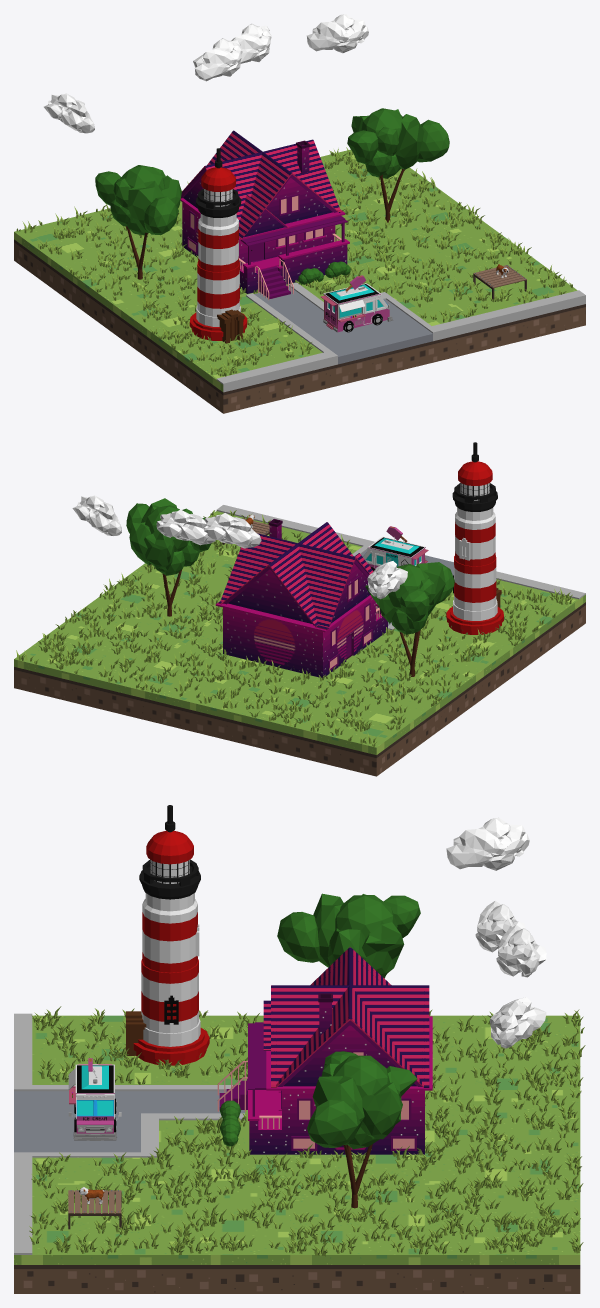
3 renders of one model, top to bottom at view 1: azimuth 30°, elevation 25°; view 2: azimuth 150°, elevation 25°; view 3: azimuth 270°, elevation 25°, orthographic. The views are drawn at different scales.
Visible parts, largest first — view 1: Cube.006, Circle.012_Grass_0.192, Cube.156, OBJRANDOM_LIGHTHOUSE, Cube.007, tree, tree.001, VEHICLES_ICE_CREAM_TRUCK, Cube.009; view 2: Cube.006, Cube.156, Circle.012_Grass_0.192, OBJRANDOM_LIGHTHOUSE, Cube.007, tree.001, tree, VEHICLES_ICE_CREAM_TRUCK; view 3: Cube.006, Circle.012_Grass_0.192, Cube.156, OBJRANDOM_LIGHTHOUSE, tree, Cube.007, tree.001, VEHICLES_ICE_CREAM_TRUCK, Cube.009.
Boxes of the visible parts, x1,y1,x2,y2 form: Cube.006: [14, 149, 585, 413]; Circle.012_Grass_0.192: [16, 147, 573, 376]; Cube.156: [180, 130, 349, 300]; OBJRANDOM_LIGHTHOUSE: [189, 148, 247, 343]; Cube.007: [44, 14, 368, 133]; tree: [347, 108, 449, 222]; tree.001: [95, 165, 181, 279]; VEHICLES_ICE_CREAM_TRUCK: [320, 275, 393, 332]; Cube.009: [473, 265, 526, 299]; Cube.006: [14, 505, 585, 776]; Cube.156: [215, 519, 387, 678]; Circle.012_Grass_0.192: [16, 510, 572, 746]; OBJRANDOM_LIGHTHOUSE: [446, 442, 503, 634]; Cube.007: [72, 495, 407, 599]; tree.001: [365, 562, 454, 676]; tree: [126, 498, 211, 616]; VEHICLES_ICE_CREAM_TRUCK: [363, 526, 428, 571]; Cube.006: [14, 1013, 580, 1293]; Circle.012_Grass_0.192: [29, 1006, 585, 1256]; Cube.156: [217, 947, 432, 1154]; OBJRANDOM_LIGHTHOUSE: [126, 805, 209, 1065]; tree: [307, 1051, 417, 1208]; Cube.007: [446, 817, 546, 1048]; tree.001: [277, 893, 420, 978]; VEHICLES_ICE_CREAM_TRUCK: [68, 1058, 121, 1140]; Cube.009: [68, 1190, 121, 1229].
Size of the model in its own units: 4071 by 2388 by 4040.
47 materials, 5 textured.
